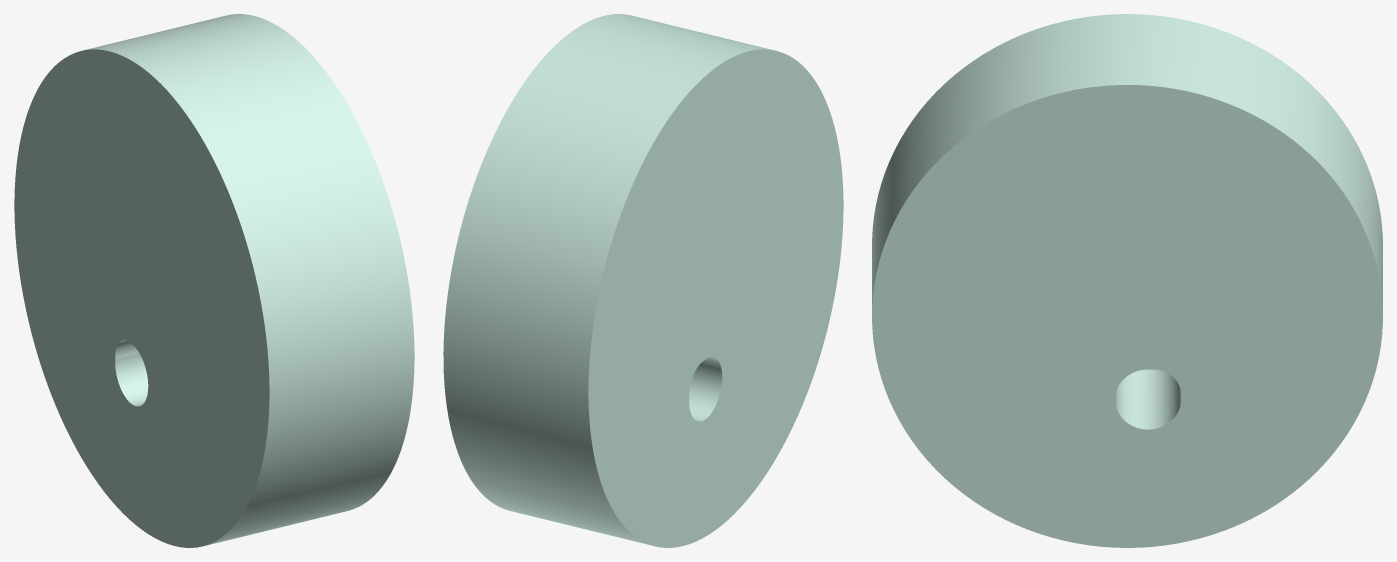
3 renders of one model, left to right at view 1: azimuth 30°, elevation 25°; view 2: azimuth 150°, elevation 25°; view 3: azimuth 270°, elevation 25°, orthographic.
Parts seen in each view (by area): view 1: Renderer Node; view 2: Renderer Node; view 3: Renderer Node.
Boxes of the visible parts, bbox=[...] form: Renderer Node: bbox=[14, 14, 414, 547]; Renderer Node: bbox=[443, 14, 843, 547]; Renderer Node: bbox=[872, 14, 1382, 547].
Bounding box in the file's own units: 0.5 × 1.52 × 1.52.
